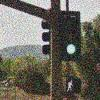traffic lights: (58, 11, 82, 61), (40, 16, 53, 59), (64, 75, 82, 95)
